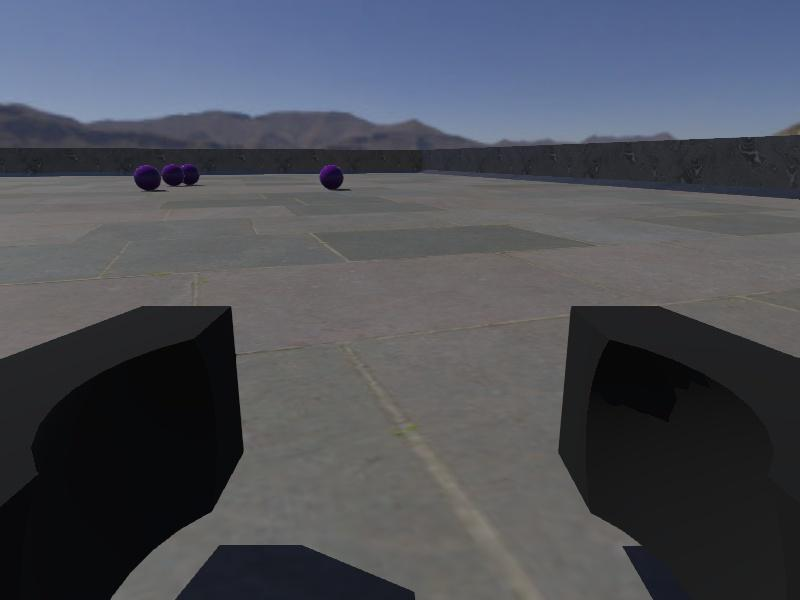violet ball: (134, 165, 161, 192), (318, 165, 344, 189), (162, 163, 185, 185)
